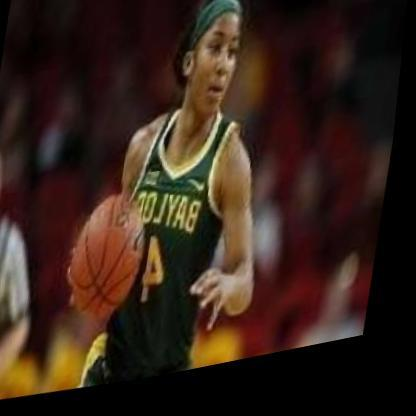basketball: (65, 188, 162, 339)
